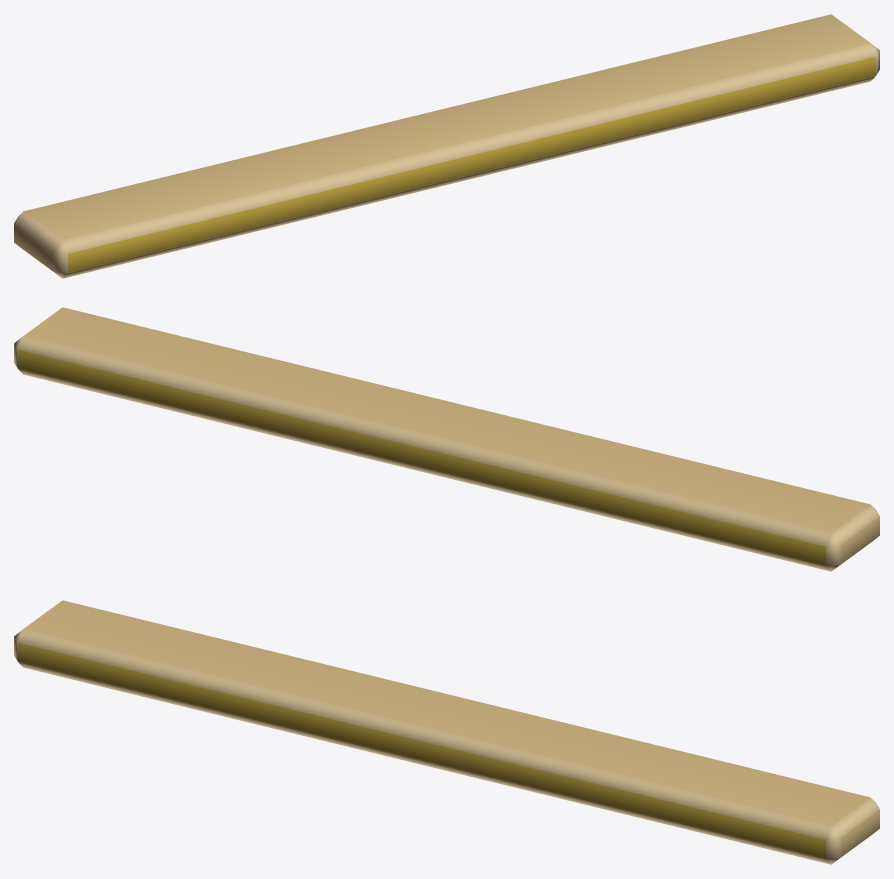
The model's file is RailingB.glb.
The picture shows the model from 3 angles, top to bottom: view 1: azimuth 30°, elevation 25°; view 2: azimuth 150°, elevation 25°; view 3: azimuth 330°, elevation 25°; orthographic projection.
Parts seen in each view (by area): view 1: RailingB; view 2: RailingB; view 3: RailingB.
Part boxes in pixels (x1=…): RailingB: x1=14, y1=14, x2=879, y2=278; RailingB: x1=14, y1=307, x2=879, y2=571; RailingB: x1=14, y1=600, x2=879, y2=864.
Bounding box in the file's own units: 1.69 × 0.0752 × 0.1776.
